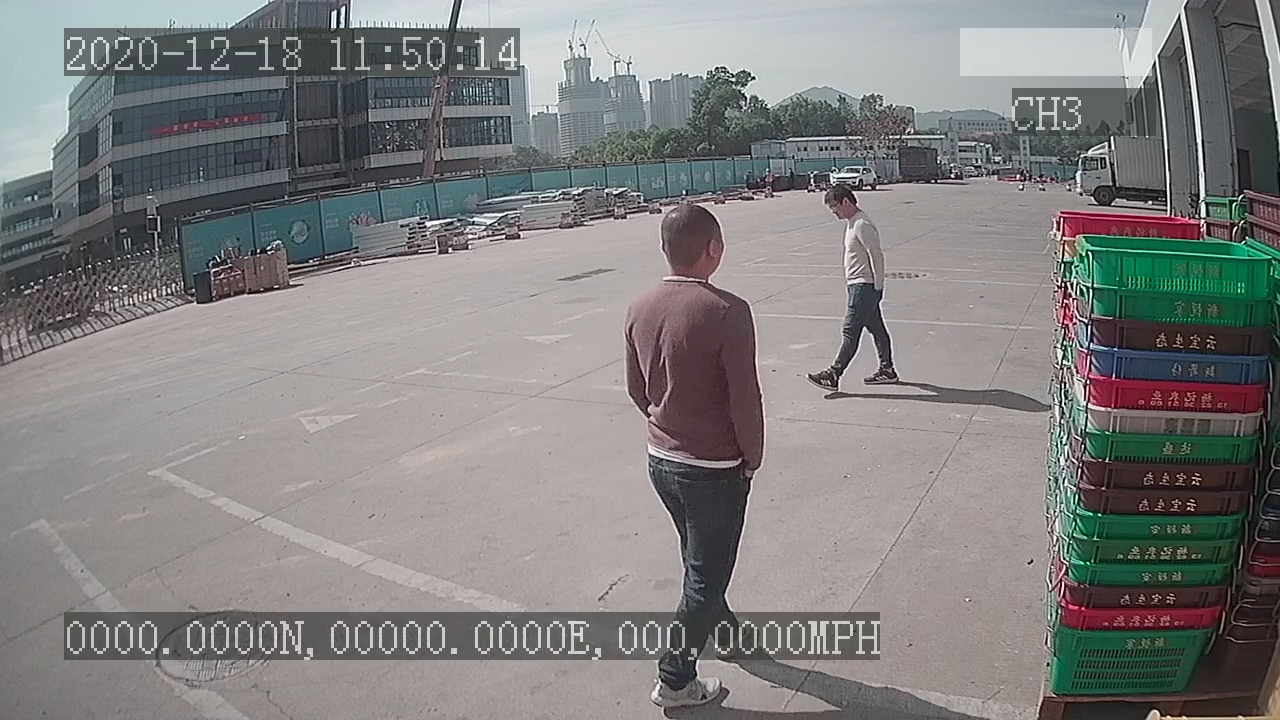person: (801, 183, 904, 397)
